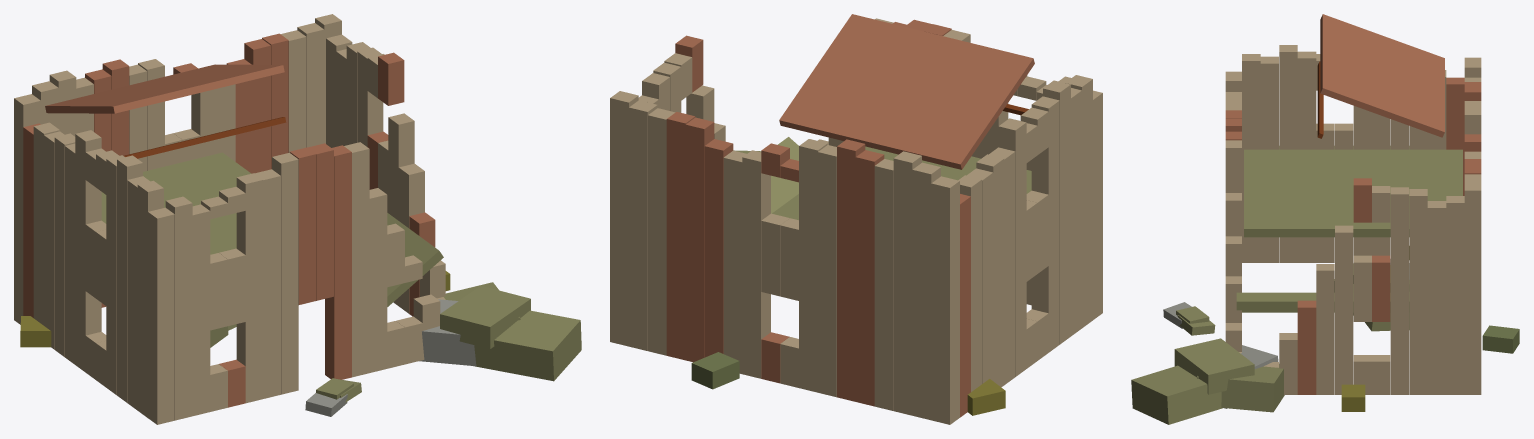
Rendered from SM_CasaRuina_v1_DosPlantas_LOD1.fbx.
3 views of the same model, side by side, from view 1: azimuth 30°, elevation 25°; view 2: azimuth 150°, elevation 25°; view 3: azimuth 270°, elevation 25° (orthographic). The views are drawn at different scales.
Visible parts, largest first — view 1: SM_casa_ruina_v1_LOD1; view 2: SM_casa_ruina_v1_LOD1; view 3: SM_casa_ruina_v1_LOD1.
Boxes of the visible parts, x1=… form: SM_casa_ruina_v1_LOD1: x1=14, y1=14, x2=581, y2=424; SM_casa_ruina_v1_LOD1: x1=610, y1=14, x2=1102, y2=424; SM_casa_ruina_v1_LOD1: x1=1131, y1=14, x2=1519, y2=424.
Bounding box in the file's own units: 11.74 × 7.54 × 10.64.
